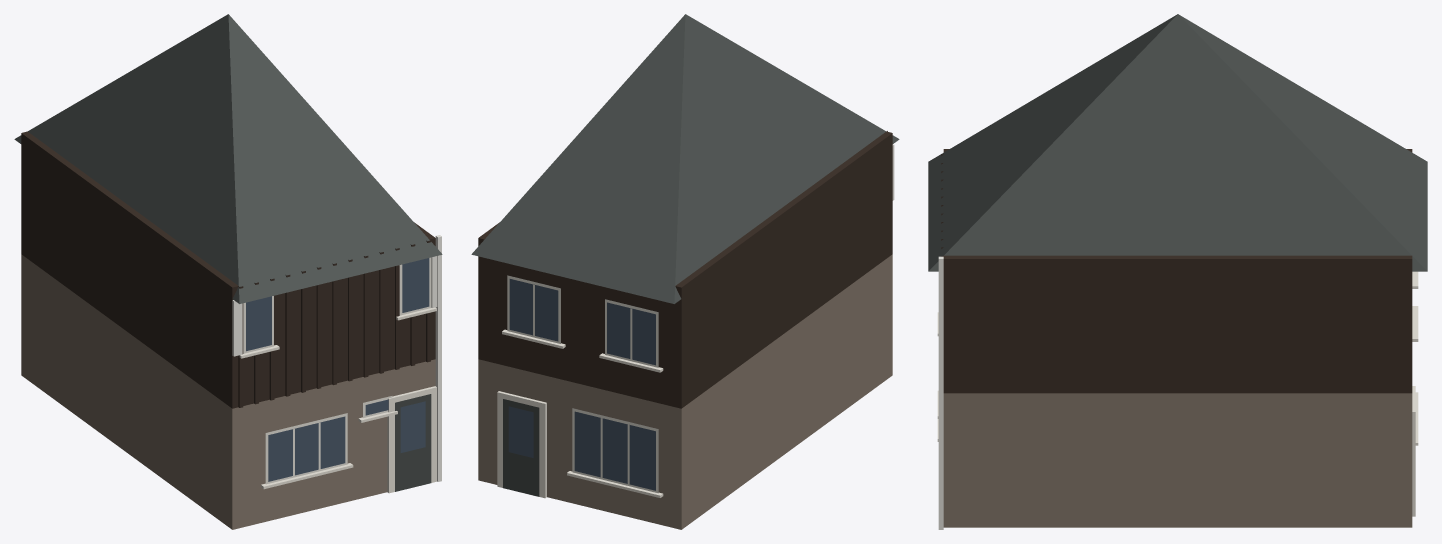
Rendered from zo-g3-timber-brick__timber__2__hip__long__solid.glb.
3 views of the same model, side by side, from view 1: azimuth 30°, elevation 25°; view 2: azimuth 150°, elevation 25°; view 3: azimuth 270°, elevation 25° (orthographic). The views are drawn at different scales.
Parts seen in each view (by area): view 1: zo-g3-timber-brick__timber__2__hip__long__solid; view 2: zo-g3-timber-brick__timber__2__hip__long__solid; view 3: zo-g3-timber-brick__timber__2__hip__long__solid.
Boxes of the visible parts, left/top/right/bottom form: zo-g3-timber-brick__timber__2__hip__long__solid: left=14, top=14, right=442, bottom=529; zo-g3-timber-brick__timber__2__hip__long__solid: left=471, top=14, right=899, bottom=529; zo-g3-timber-brick__timber__2__hip__long__solid: left=928, top=14, right=1427, bottom=529.
Bounding box in the file's own units: 5.1 × 9.73 × 9.6.
